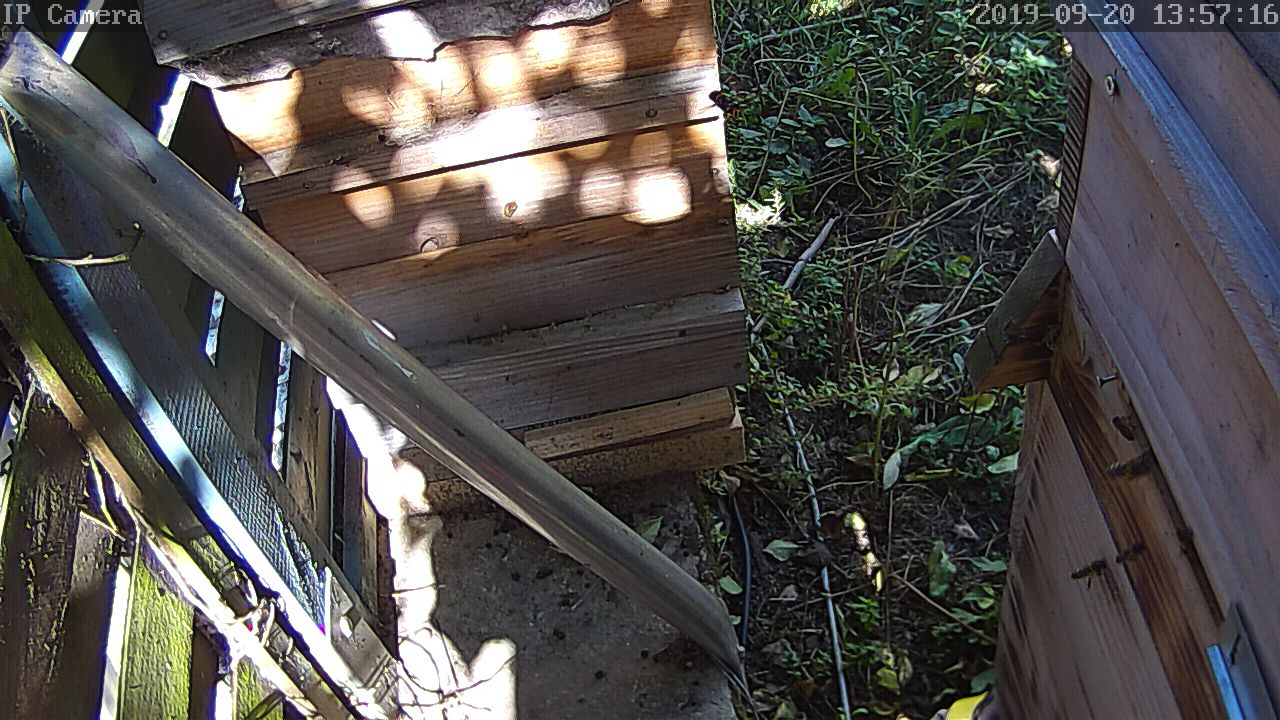bee: (1103, 540, 1143, 577)
hornet: (705, 86, 742, 122)
